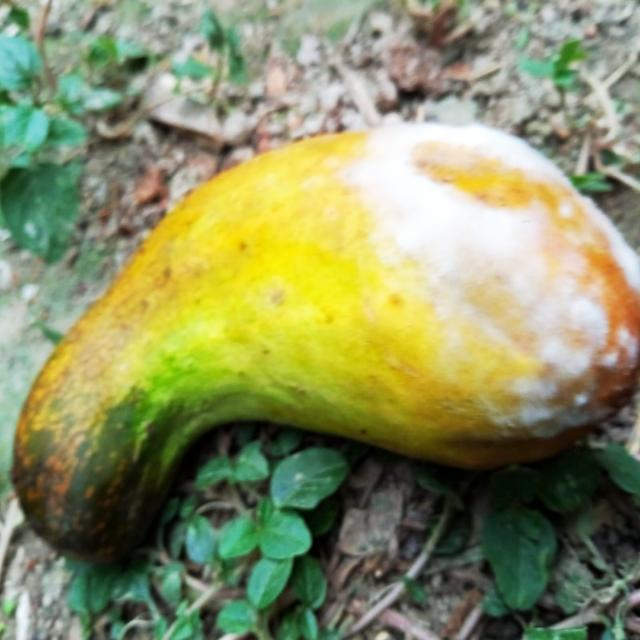Pythium-Fruit-Rot: (362, 112, 640, 444)
